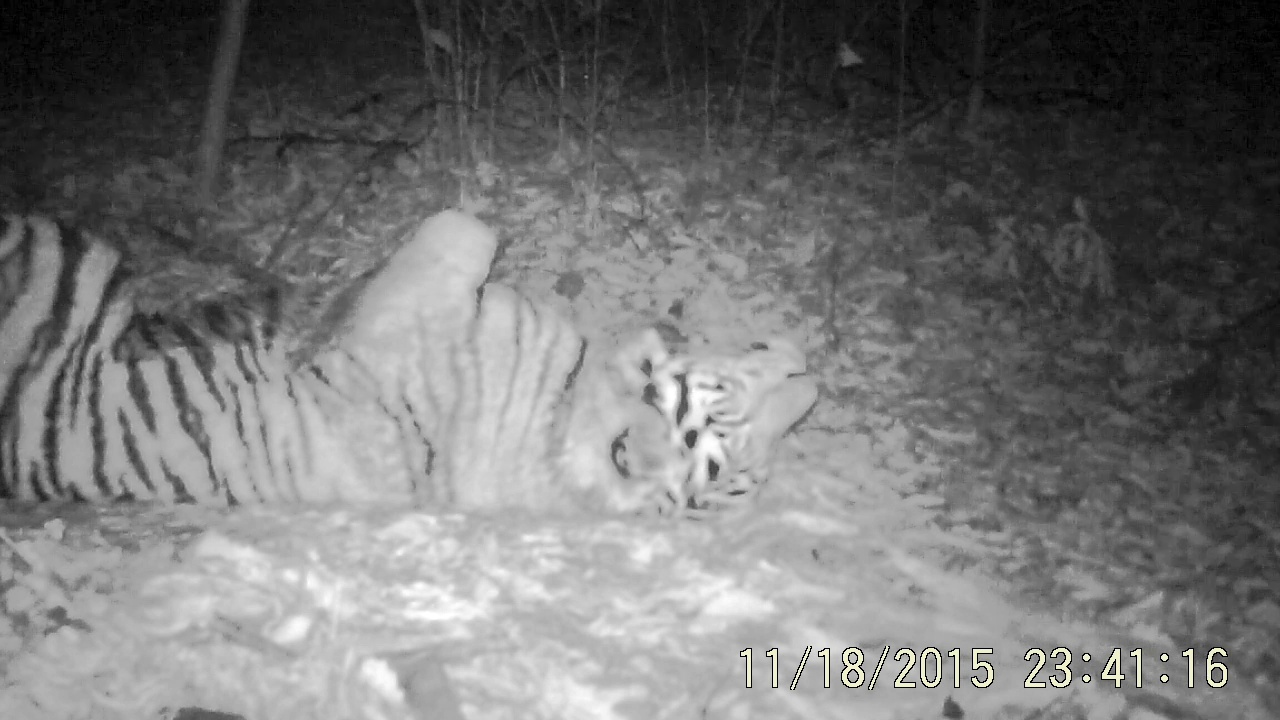Tiger: (8, 89, 928, 589)
